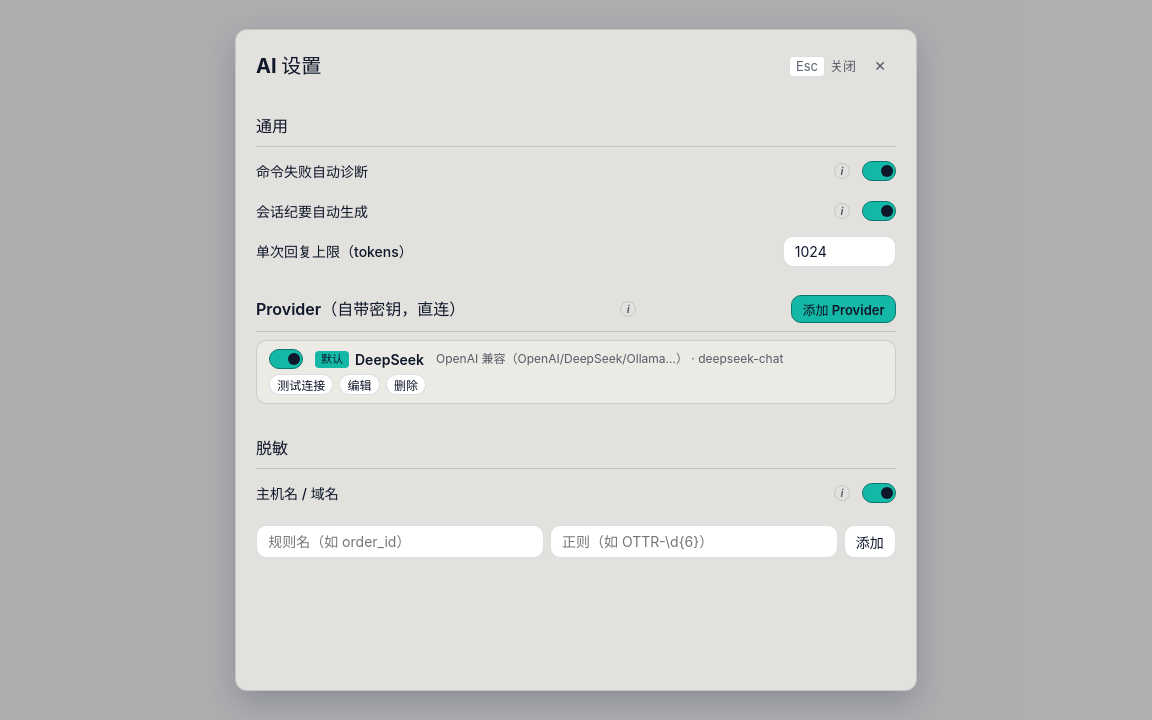
Test: provider 列表与 CRUD › 测试连接：secret 出库 + 非流式一发成功展示回文
Step 1. Click the button with test id "ai-provider-test-p1" → [301, 385], box [269,374,333,395]
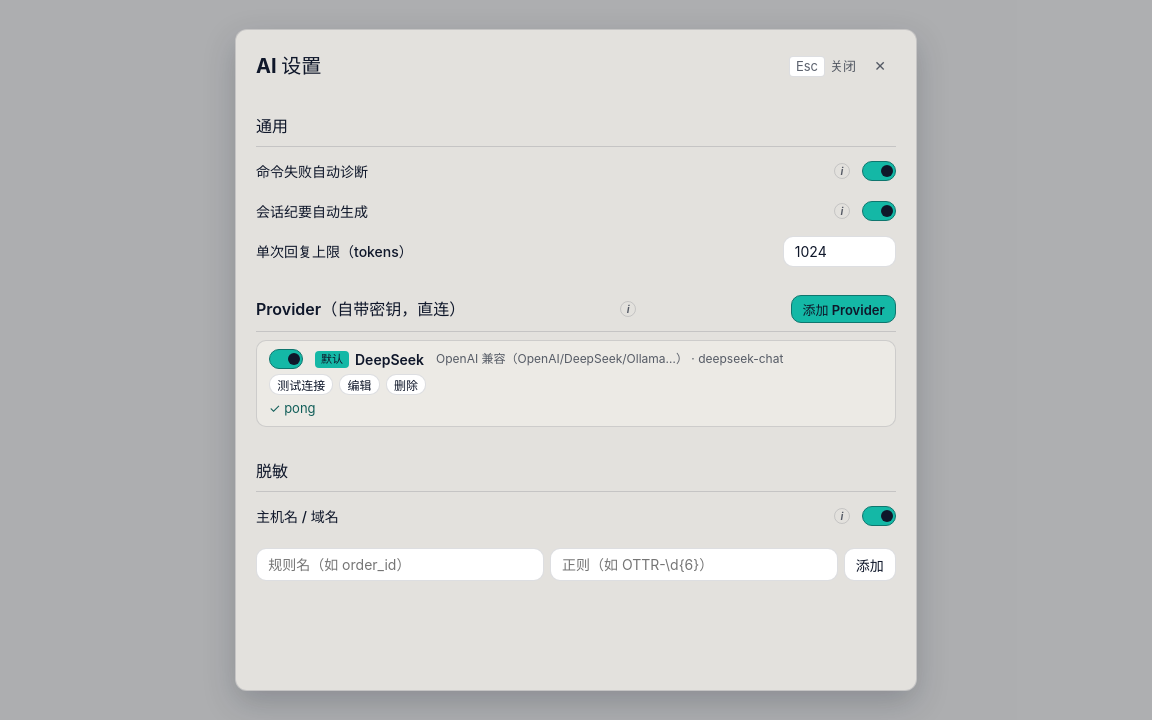
Now the text with test id "ai-test-result-p1" shows "pong", box [284,400,316,416]
